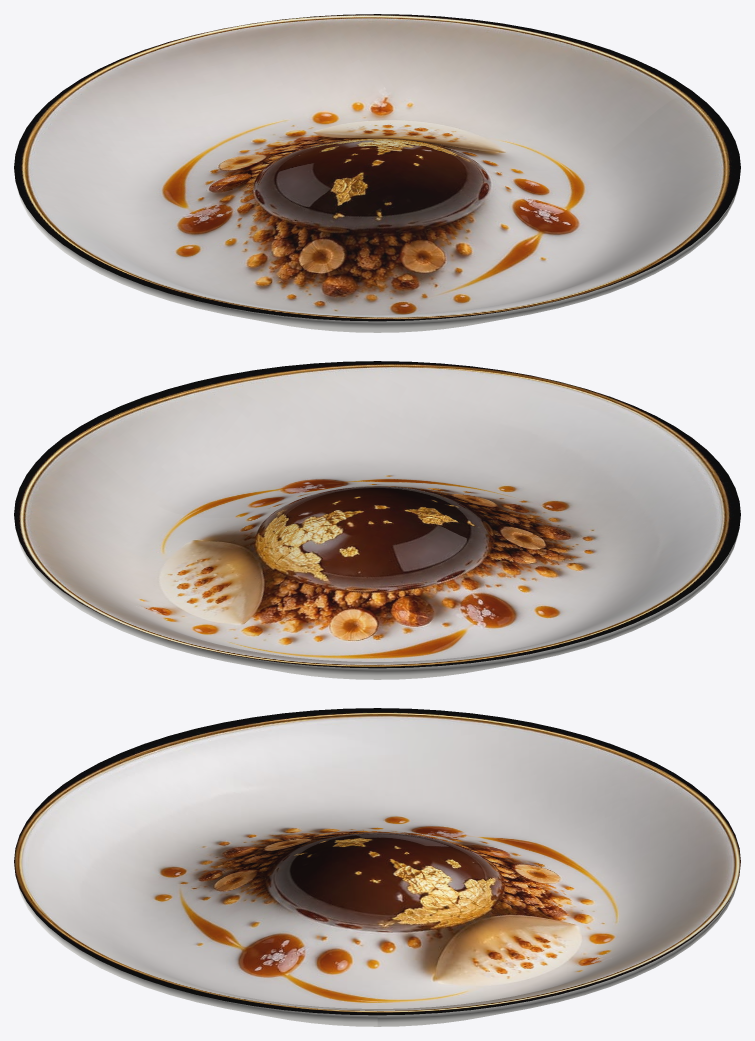
File: esfera.glb
3 renders of one model, top to bottom at view 1: azimuth 30°, elevation 25°; view 2: azimuth 150°, elevation 25°; view 3: azimuth 270°, elevation 25°, orthographic.
Visible parts, largest first — view 1: dish; view 2: dish; view 3: dish.
Part boxes in pixels (left/top/right/bottom): dish: left=14, top=14, right=740, bottom=332; dish: left=14, top=361, right=740, bottom=679; dish: left=14, top=708, right=740, bottom=1026.
Bounding box in the file's own units: 0.24 × 0.0275 × 0.24.
Materials: 2 (1 with a texture image).
